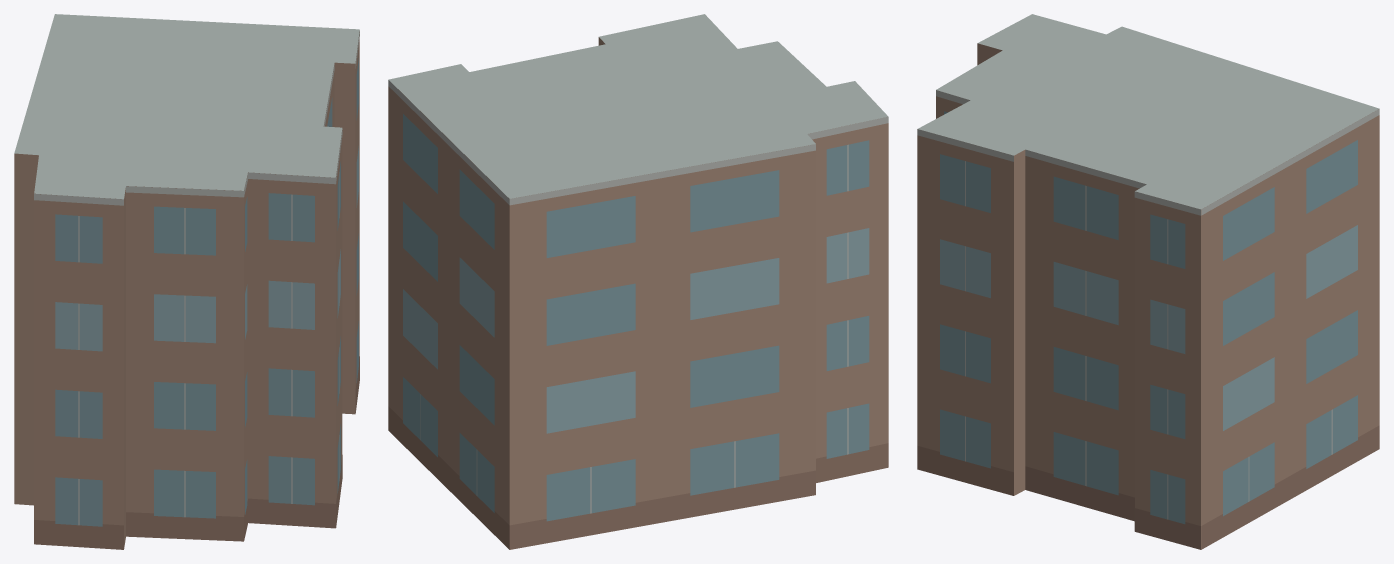
The model's file is survey-upis-32825580.glb.
The picture shows the model from 3 angles, left to right: view 1: azimuth 30°, elevation 25°; view 2: azimuth 150°, elevation 25°; view 3: azimuth 270°, elevation 25°; orthographic projection. The views are drawn at different scales.
Visible parts, largest first — view 1: survey-upis-32825580.tmp; view 2: survey-upis-32825580.tmp; view 3: survey-upis-32825580.tmp.
Part boxes in pixels (x1=…): survey-upis-32825580.tmp: x1=14, y1=14, x2=359, y2=549; survey-upis-32825580.tmp: x1=388, y1=14, x2=888, y2=549; survey-upis-32825580.tmp: x1=917, y1=14, x2=1379, y2=549.
Size of the model in its own units: 16.27 by 13.2 by 16.25.
